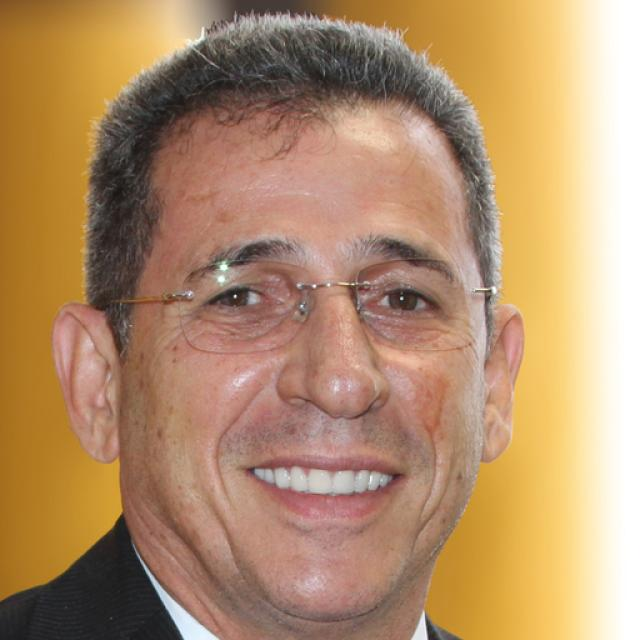Pigmentation: (418, 372, 453, 433)
Wrinkle: (214, 388, 260, 501), (420, 421, 440, 527), (220, 514, 238, 565)
